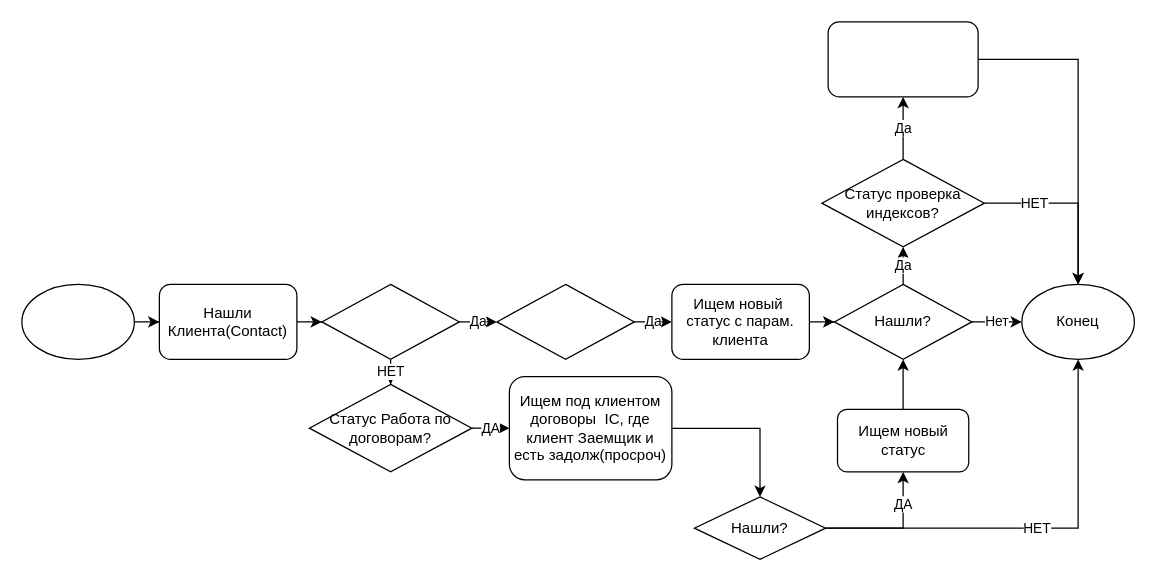
Image size: 1156x581. Some labels were removed from this diagram. The centre of each missing label's shape, as x and y in pixels:
"Запуск подпроцесса" goes at point (902, 59).
"Старт" goes at point (77, 321).
"Статус Клиента C0?" goes at point (390, 321).
"Сумма ПЗ>0?" goes at point (565, 321).
